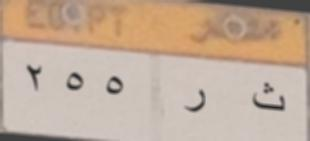2: (25, 58, 46, 95)
5: (61, 67, 87, 97), (103, 71, 125, 102)
raa: (179, 81, 213, 118)
thaa: (250, 77, 288, 116)
